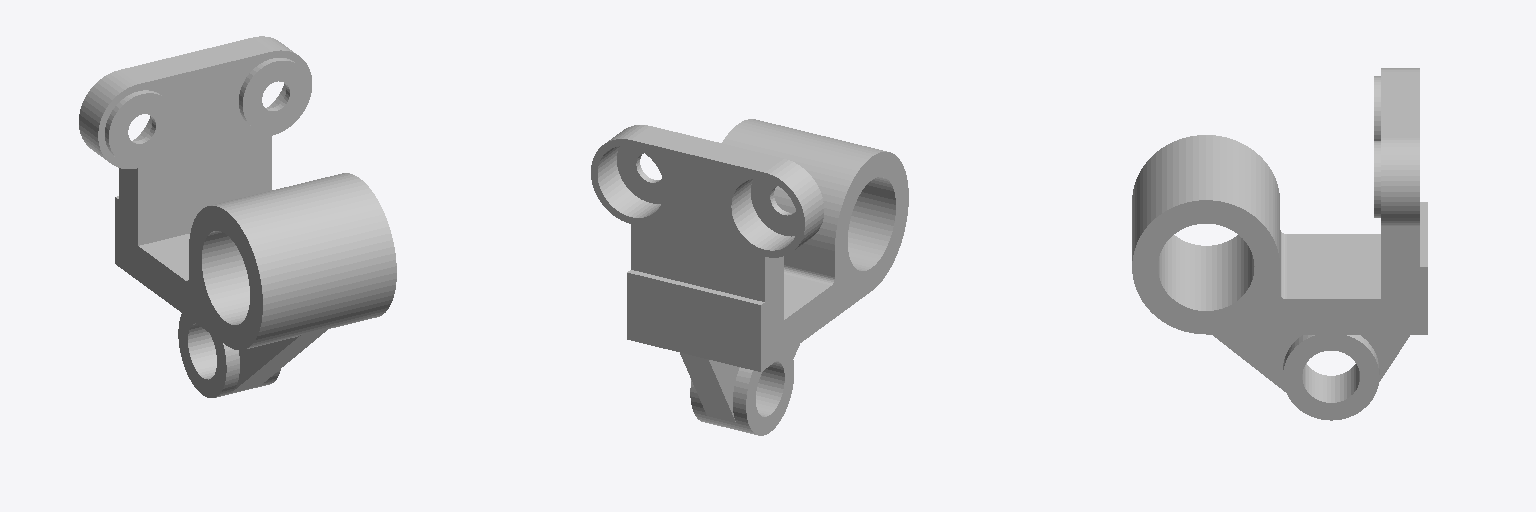
The model's file is iso1.obj.
3 views of the same model, side by side, from view 1: azimuth 30°, elevation 25°; view 2: azimuth 150°, elevation 25°; view 3: azimuth 270°, elevation 25° (orthographic).
Parts seen in each view (by area): view 1: Body1; view 2: Body1; view 3: Body1.
Boxes of the visible parts, x1=… form: Body1: x1=79, y1=36, x2=396, y2=397; Body1: x1=591, y1=119, x2=908, y2=435; Body1: x1=1132, y1=68, x2=1427, y2=420.
Size of the model in its own units: 192 by 258 by 230.